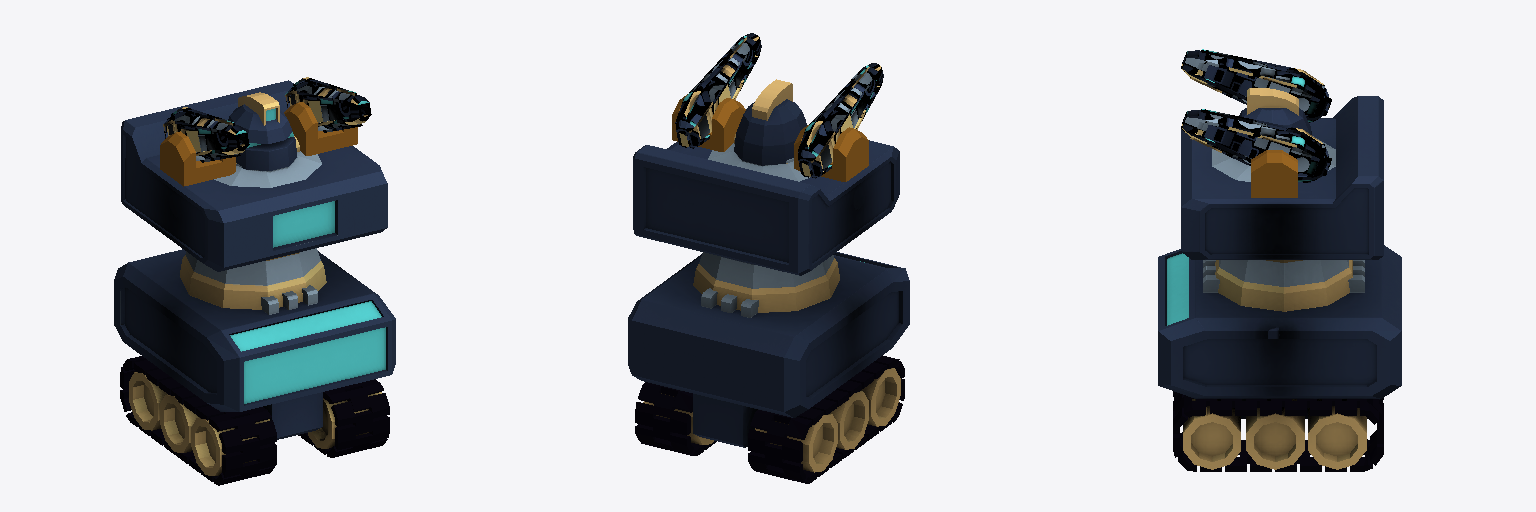
3 views of the same model, side by side, from view 1: azimuth 30°, elevation 25°; view 2: azimuth 150°, elevation 25°; view 3: azimuth 270°, elevation 25° (orthographic).
Parts seen in each view (by area): view 1: Object020, Box031, Object013, Box032; view 2: Object020, Box031, Object013, Box032; view 3: Object020, Object013, Box032.
Boxes of the visible parts, x1,y1,x2,y2 form: Object020: [114, 77, 395, 439]; Box031: [120, 356, 276, 485]; Object013: [129, 372, 381, 475]; Box032: [298, 379, 389, 457]; Object020: [628, 33, 909, 447]; Box031: [748, 355, 904, 483]; Object013: [643, 368, 900, 472]; Box032: [635, 382, 716, 455]; Object020: [1158, 49, 1401, 418]; Object013: [1183, 399, 1366, 469]; Box032: [1173, 394, 1383, 471].
Size of the model in its own units: 179 by 343 by 214.
4 materials, 2 textured.